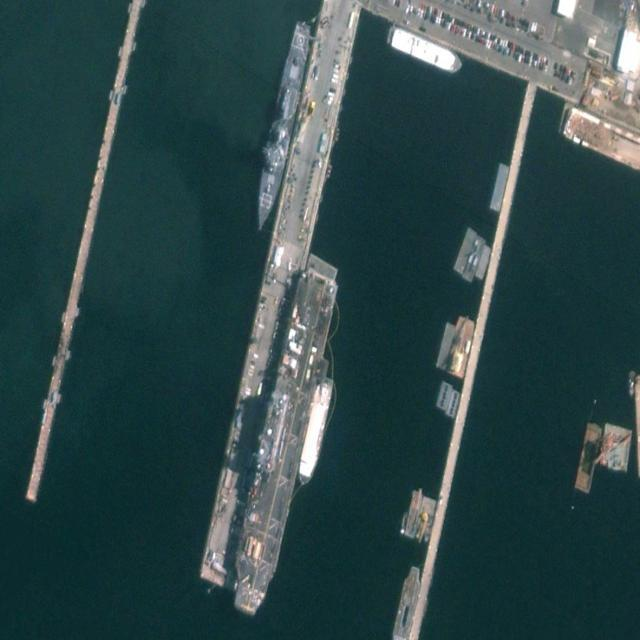Destroyer: (250, 16, 314, 235)
Landing: (225, 261, 339, 621)
Other Ship: (296, 374, 334, 489), (386, 22, 465, 77)
